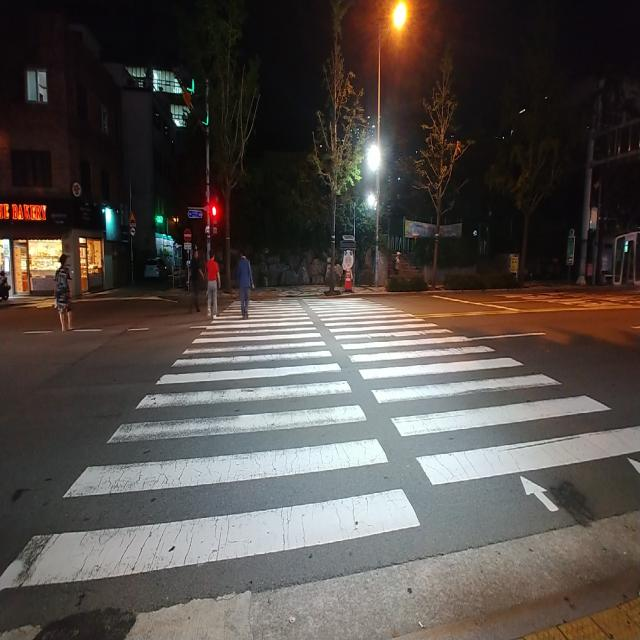빨간불: (210, 204, 218, 231)
횡단보도: (0, 297, 640, 591)
